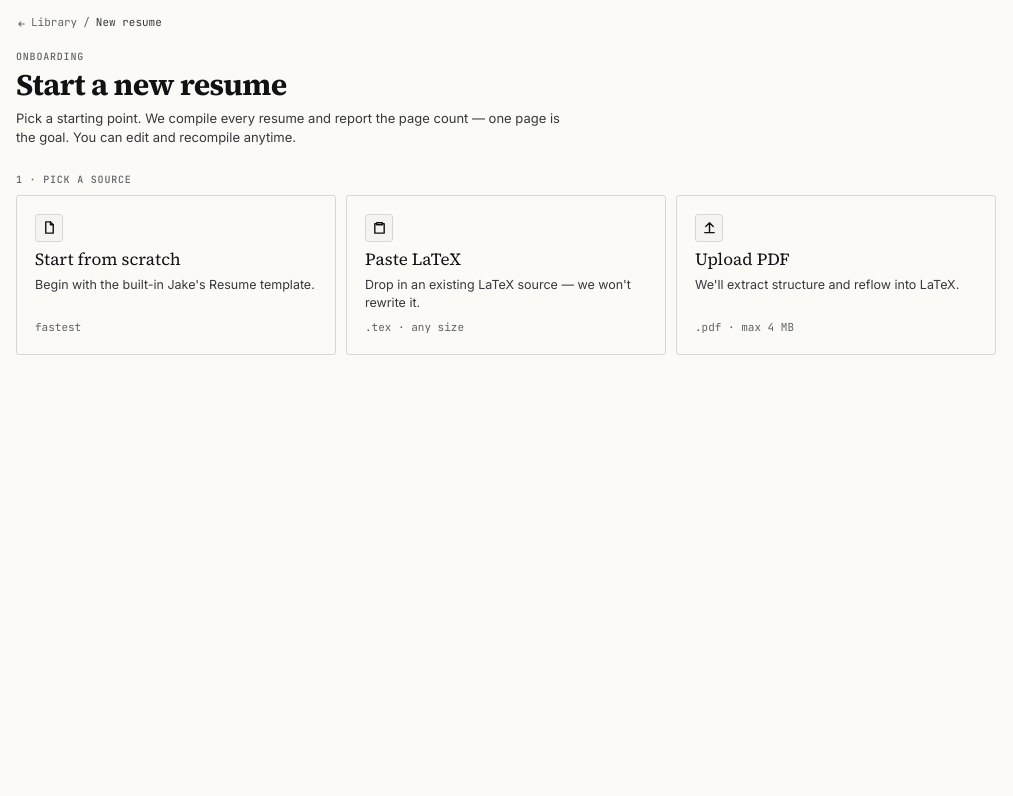
Scenario: renders enforce-one-line checkbox defaulting unchecked
Click the button "Start from scratch" at point(176, 275), box [16,194,336,355]
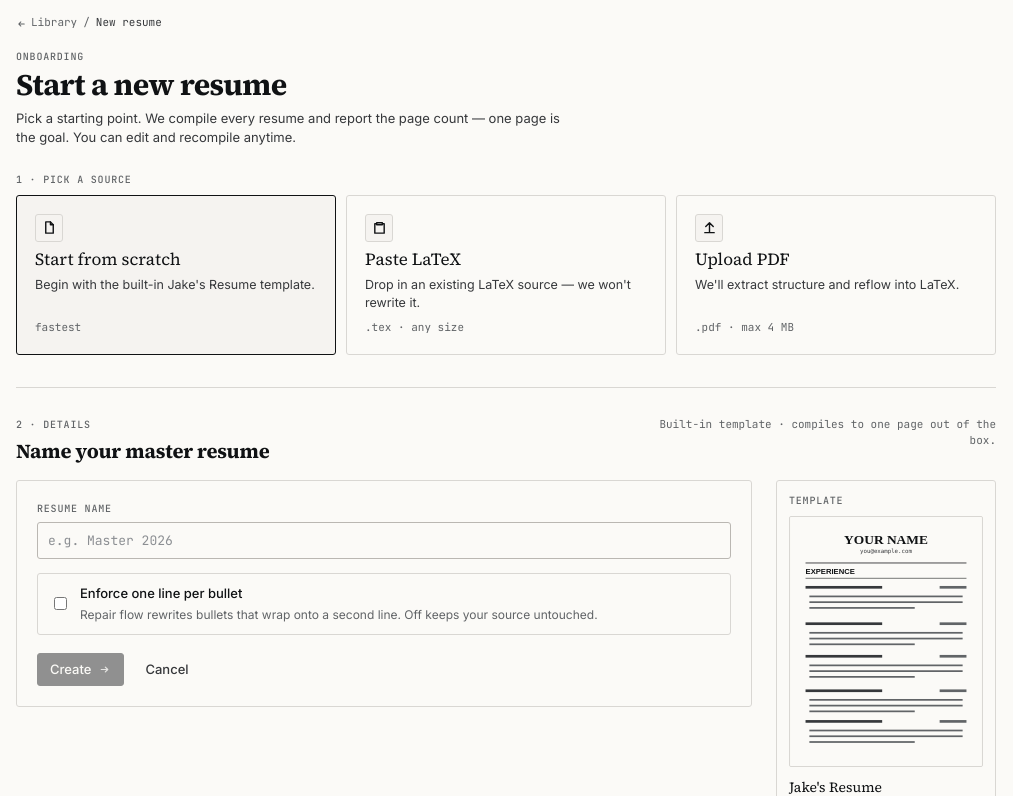
Check: the checkbox labelled "Enforce one line per bullet" is not checked, box [54,597,67,610]
